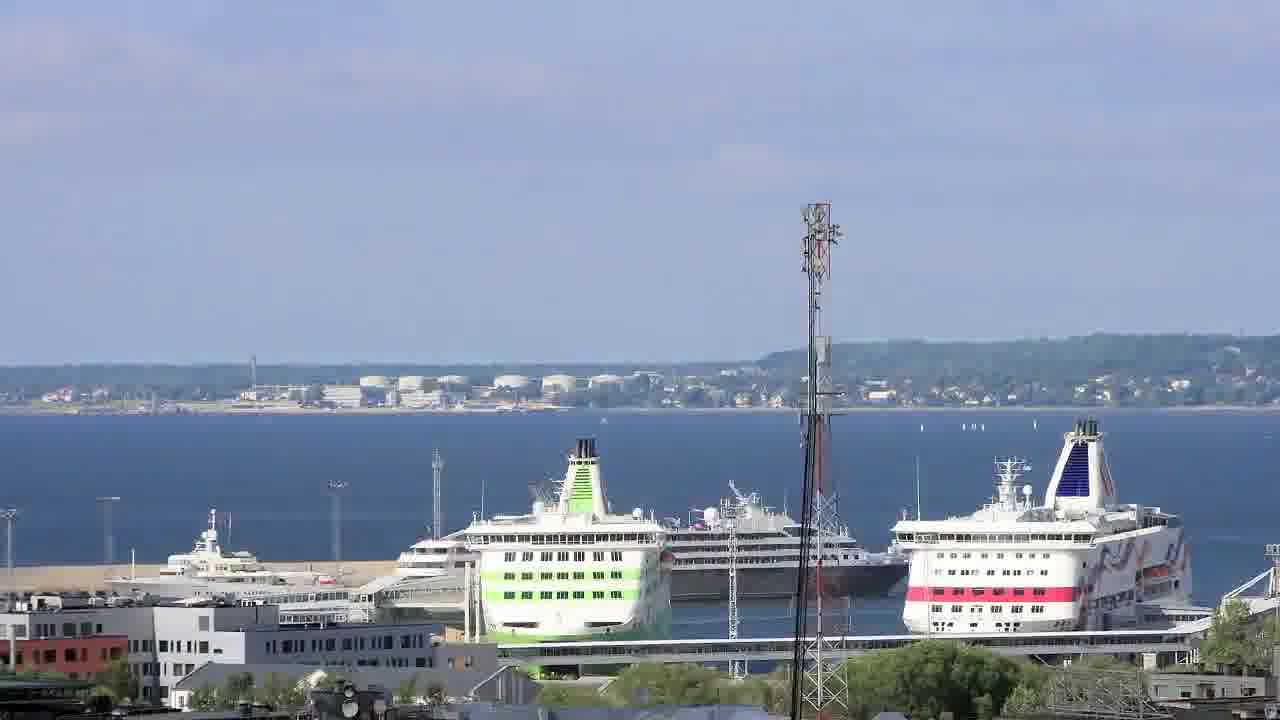type-3: (868, 415, 1225, 638), (366, 487, 912, 607), (436, 434, 694, 670), (95, 510, 340, 606)
